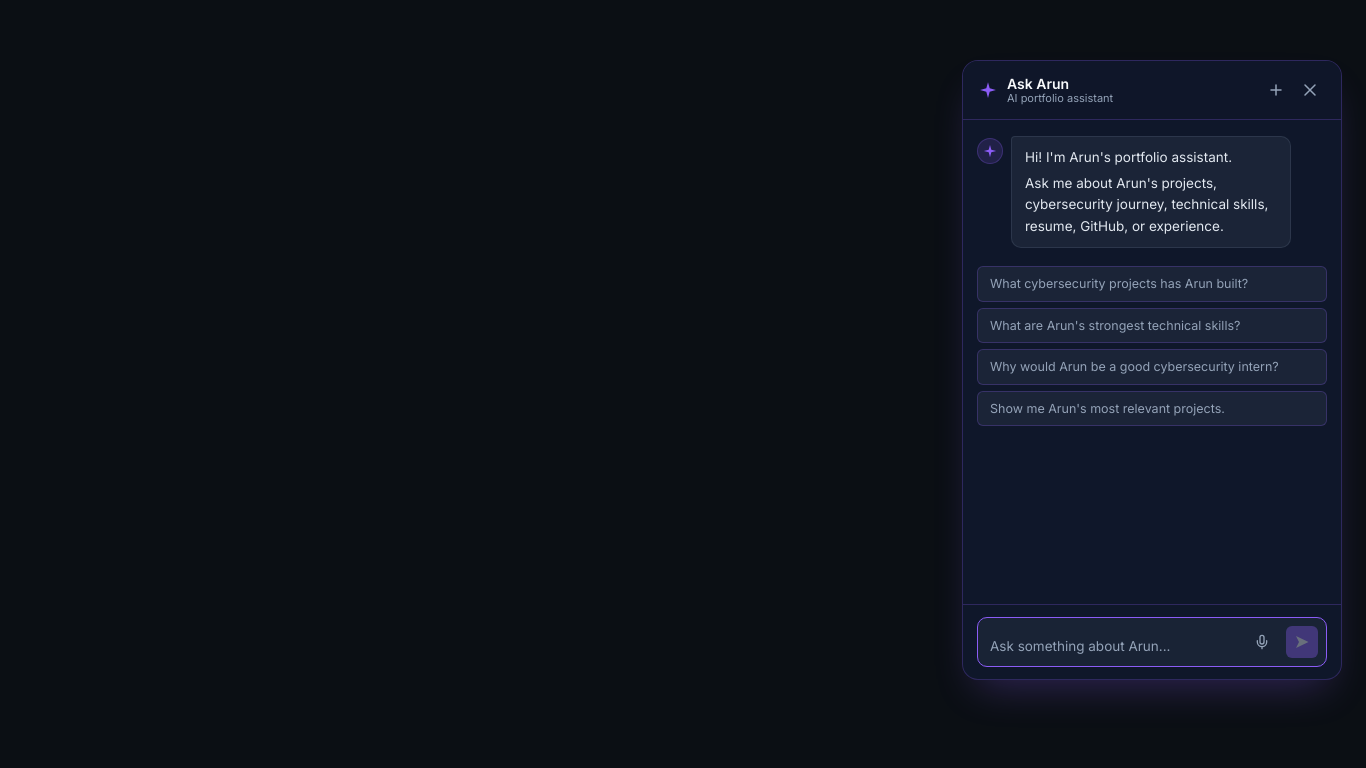
Ask Arun panel › shows a friendly error when the API fails
Type "Who is Arun?" into the text box named "type your message". click: (1114, 647)
box: [990, 636, 1238, 658]
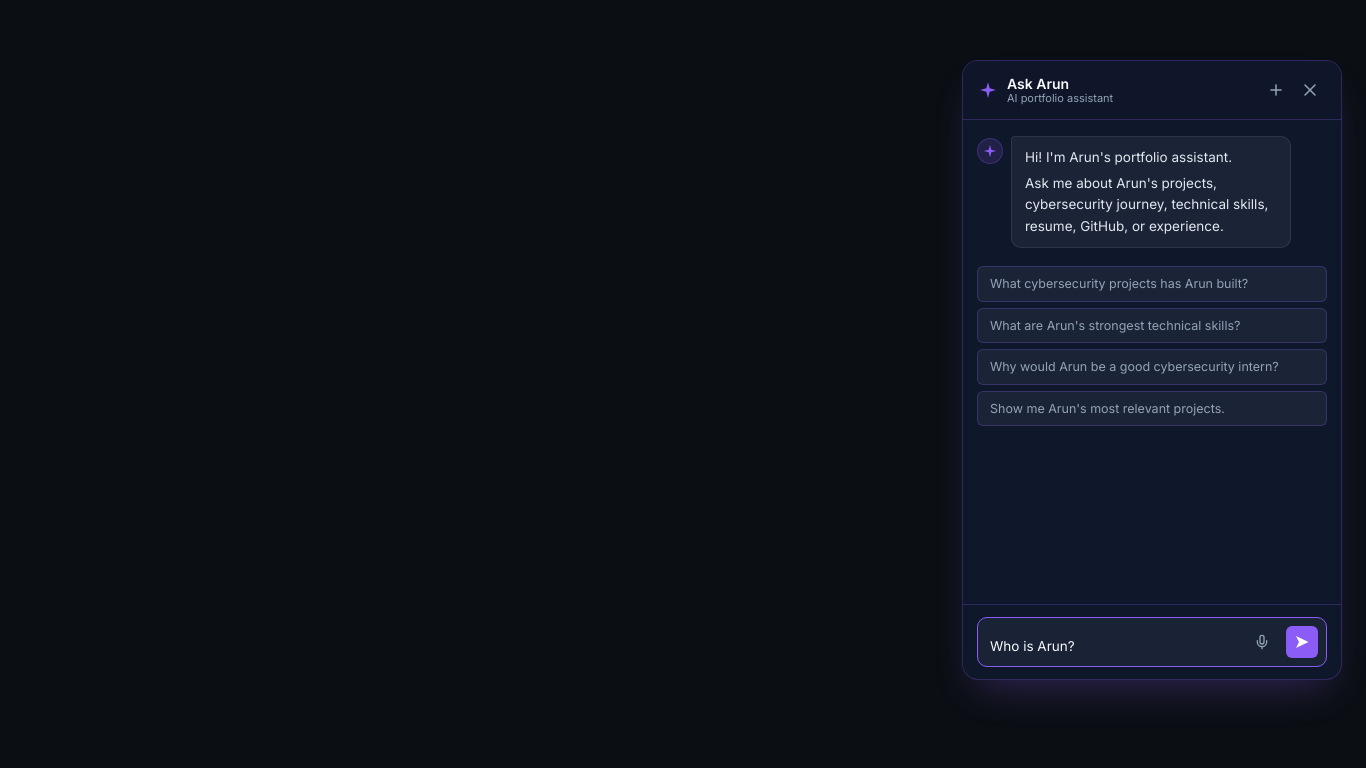
Click the button named "send message". click: (1302, 642)
box: [1286, 626, 1318, 658]
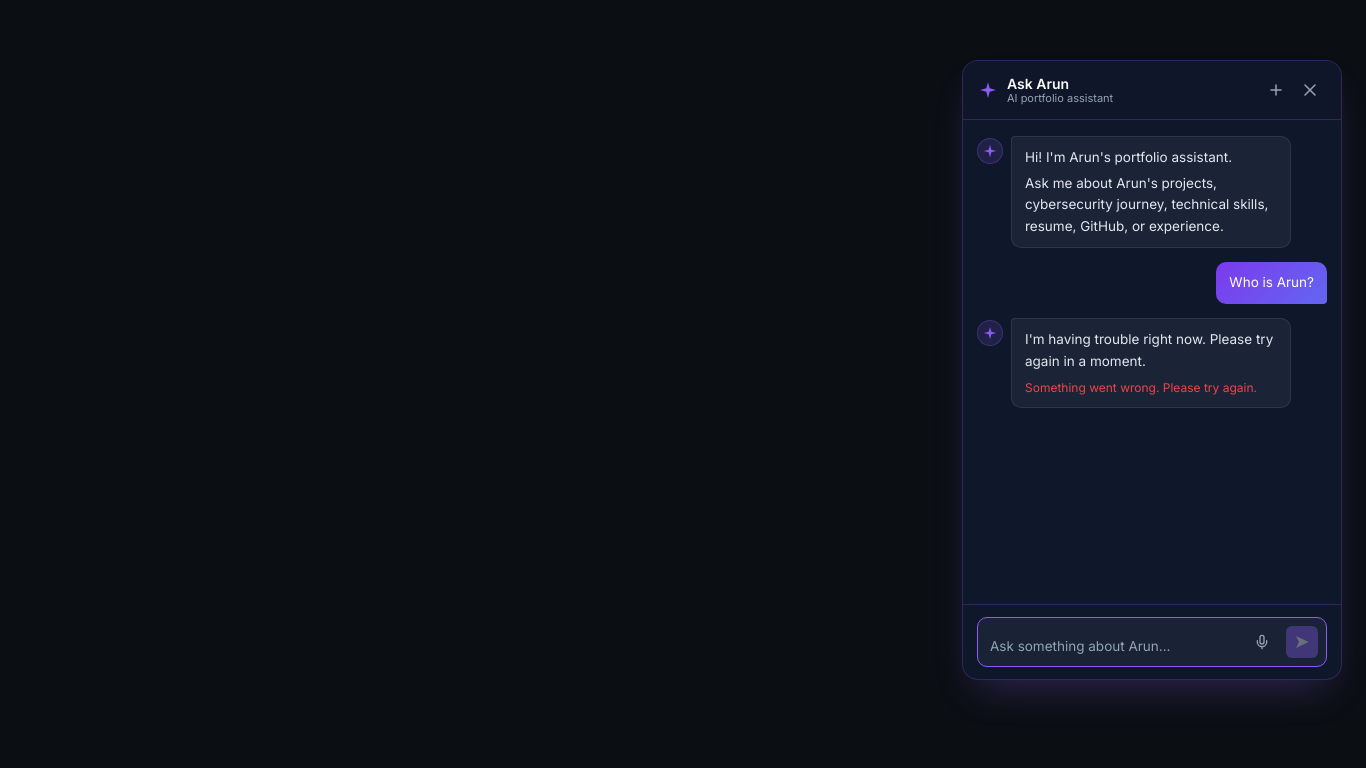
Result: the text "I'm having trouble right now. Please try again in a moment." is shown at [1025, 331, 1273, 369]
